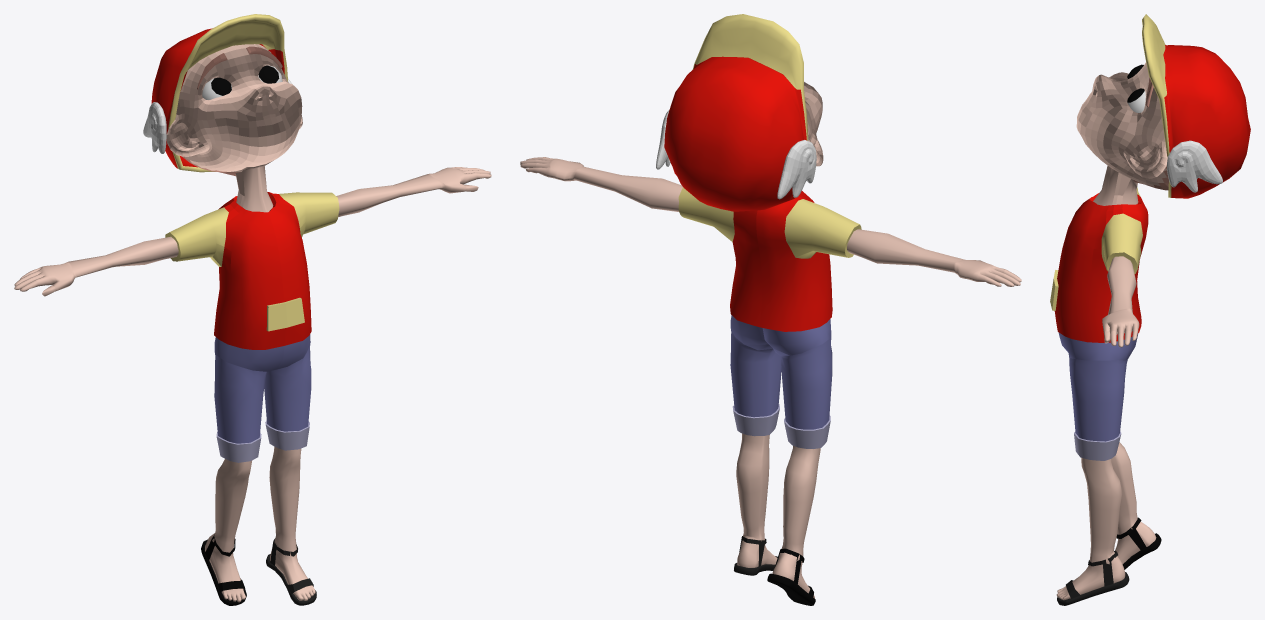
Rendered from Character_2.fbx.
3 renders of one model, left to right at view 1: azimuth 30°, elevation 25°; view 2: azimuth 150°, elevation 25°; view 3: azimuth 270°, elevation 25°, orthographic. The views are drawn at different scales.
Parts seen in each view (by area): view 1: kidBody, kidHat, kidHatwings, Shoe_L, kidEyes, Shoe_R; view 2: kidBody, kidHat, kidHatwings, Shoe_L; view 3: kidBody, kidHat, kidHatwings, Shoe_R, Shoe_L, kidEyes.
Boxes of the visible parts, box(x1,y1,x2,y2) form: kidBody: box(14, 44, 491, 602); kidHat: box(151, 14, 287, 172); kidHatwings: box(143, 78, 291, 153); Shoe_L: box(201, 534, 246, 605); kidEyes: box(202, 65, 282, 99); Shoe_R: box(266, 538, 316, 605); kidBody: box(520, 82, 1021, 598); kidHat: box(664, 14, 808, 211); kidHatwings: box(656, 110, 816, 199); Shoe_L: box(767, 548, 815, 605); kidBody: box(1050, 62, 1168, 599); kidHat: box(1142, 14, 1250, 198); kidHatwings: box(1167, 140, 1222, 192); Shoe_R: box(1057, 551, 1129, 605); Shoe_L: box(1116, 517, 1161, 569); kidEyes: box(1127, 64, 1145, 112).
Size of the model in its own units: 107 by 122 by 38.75.
